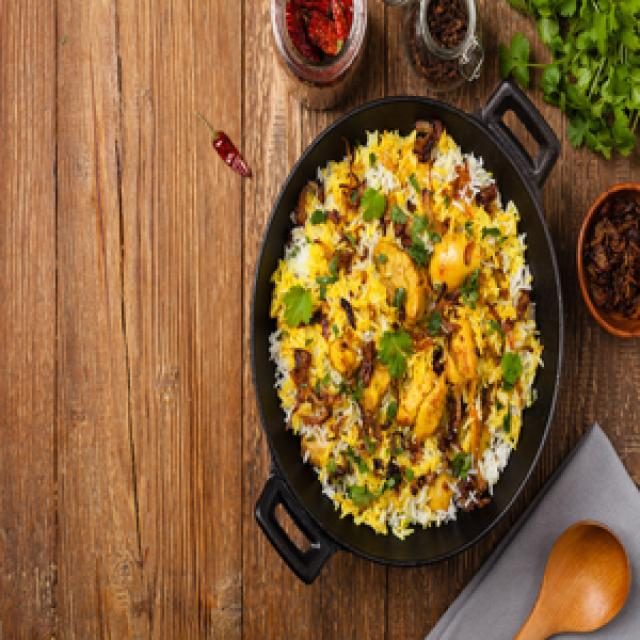chicken biriyani: (252, 103, 554, 548)
